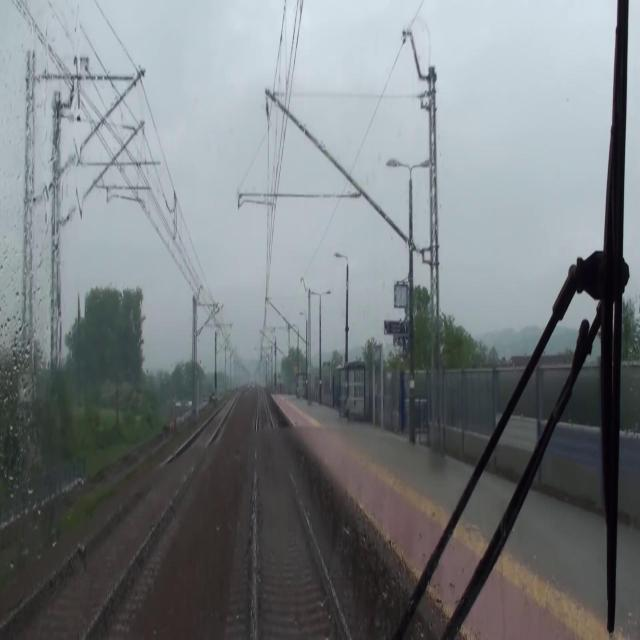rail-track: (0, 400, 231, 639), (256, 389, 345, 639)
